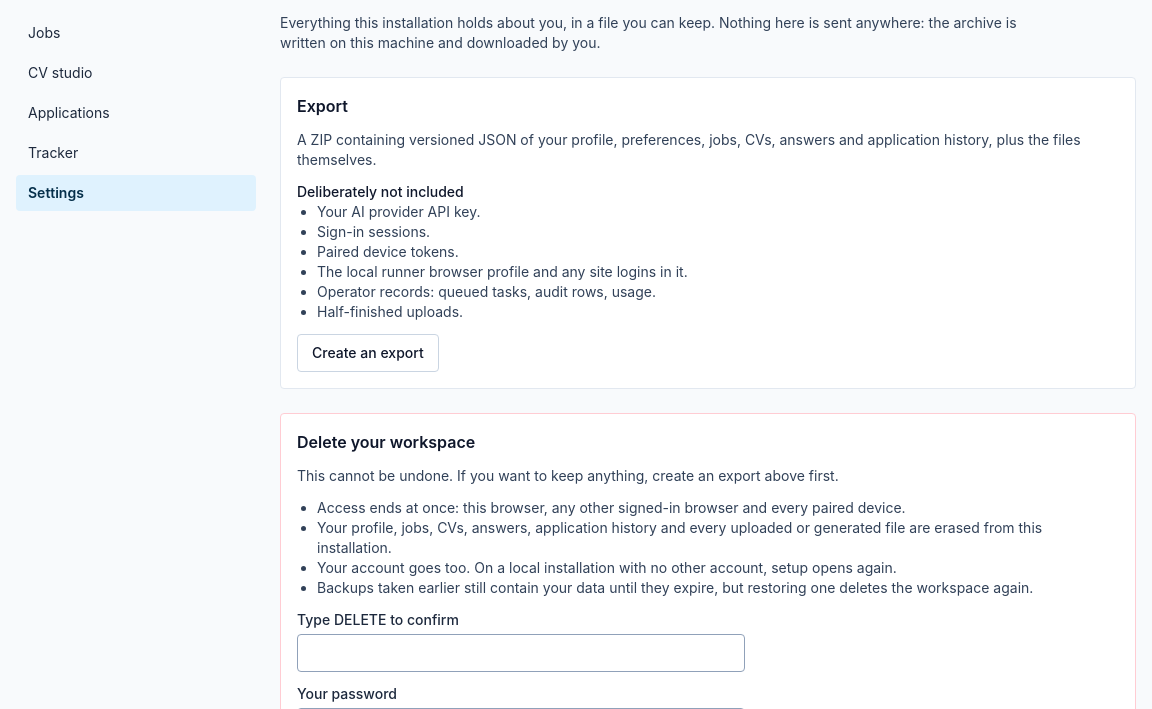
Test: the privacy tab › shows the size, the file count and the checksum once it is built
This screenshot has width=1152, height=709.
(page scrolled)
Click the button "Create an export": x=368, y=353 [297,334,439,372]
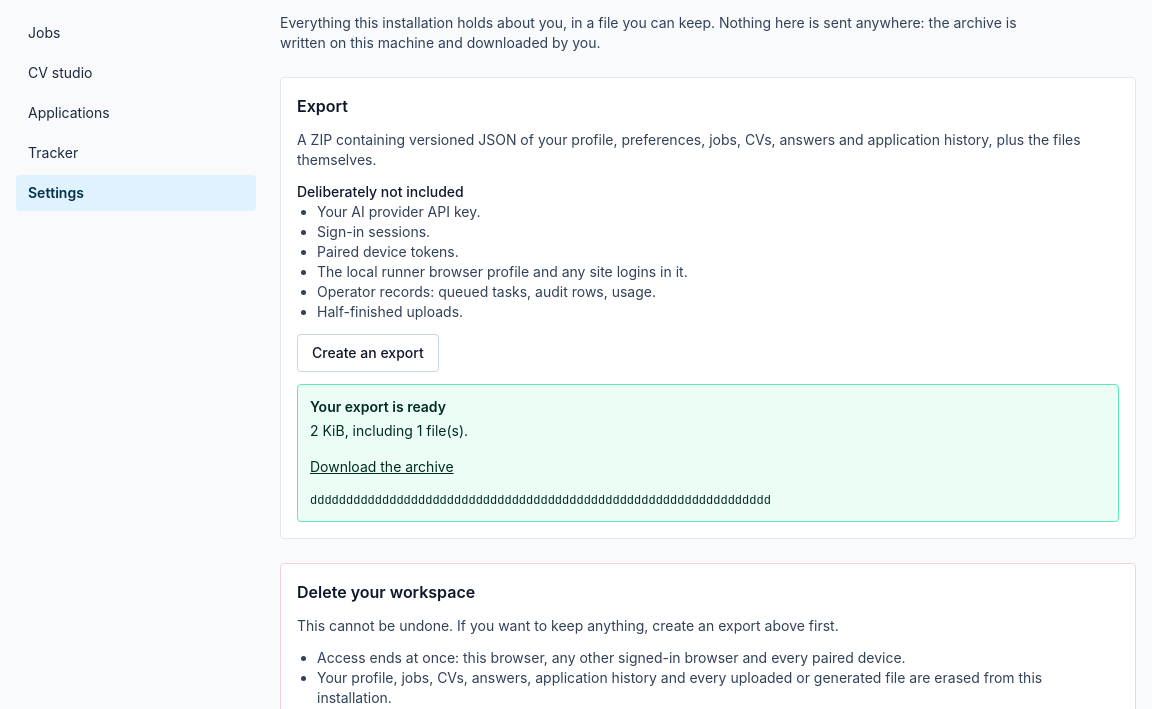
Expected: the text with test id "export-summary" shows "2 KiB", [310,422,468,439]
